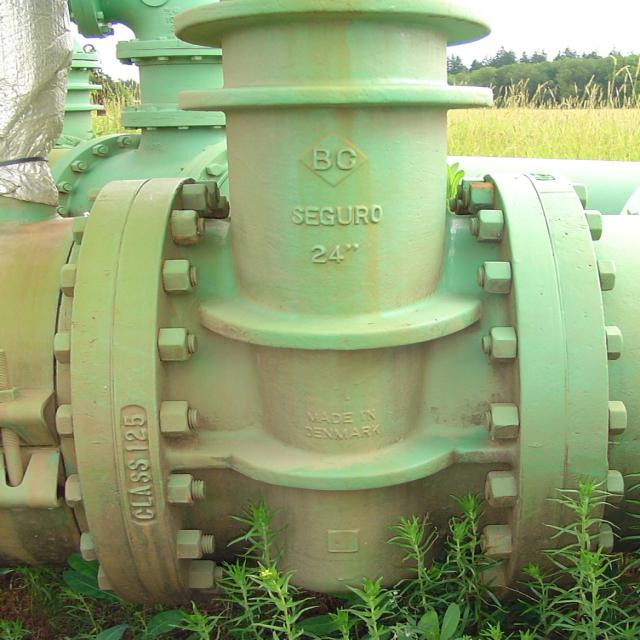fire_hydrant: (3, 2, 640, 608)
